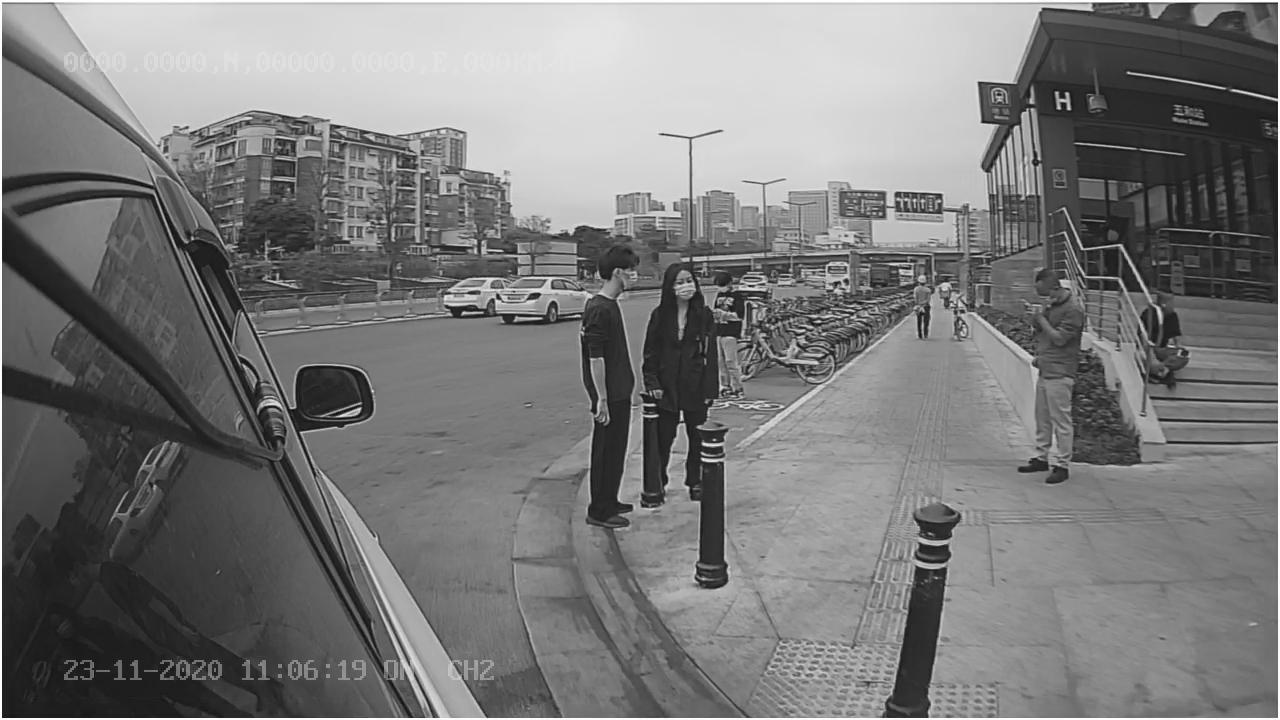person: (568, 236, 643, 536)
